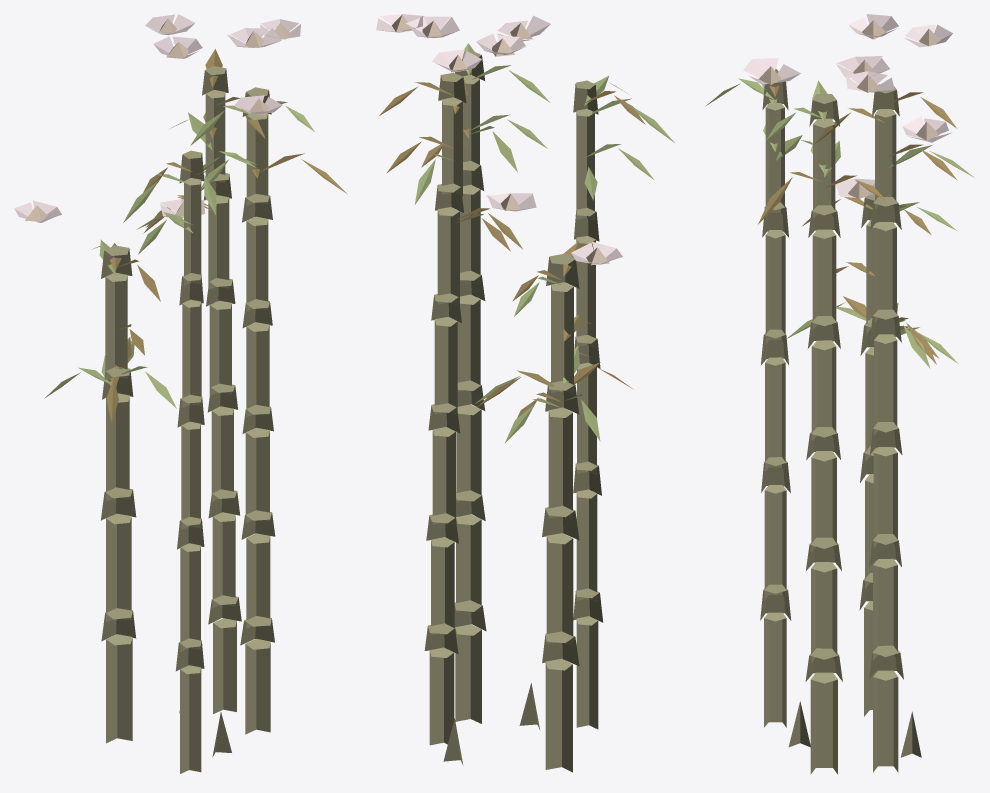
File: hua.zhu@flowering__autumn.glb
3 views of the same model, side by side, from view 1: azimuth 30°, elevation 25°; view 2: azimuth 150°, elevation 25°; view 3: azimuth 270°, elevation 25° (orthographic). The views are drawn at different scales.
Visible parts, largest first — view 1: hua.zhu@flowering__autumn; view 2: hua.zhu@flowering__autumn; view 3: hua.zhu@flowering__autumn.
Boxes of the visible parts, x1,y1,x2,y2 form: hua.zhu@flowering__autumn: (14, 14, 347, 773); hua.zhu@flowering__autumn: (376, 14, 674, 772); hua.zhu@flowering__autumn: (705, 14, 974, 774).
Bounding box in the file's own units: 2.29 × 5.83 × 1.98.
